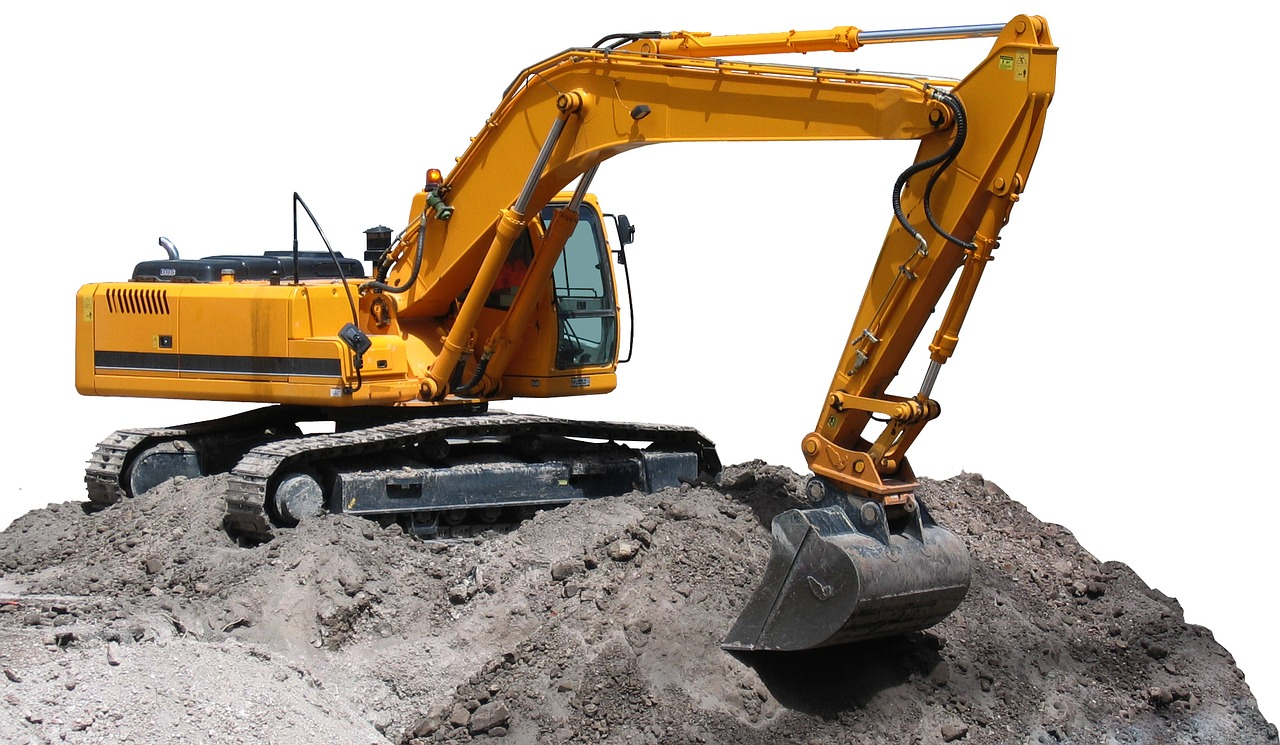excavator: (75, 13, 1073, 670)
